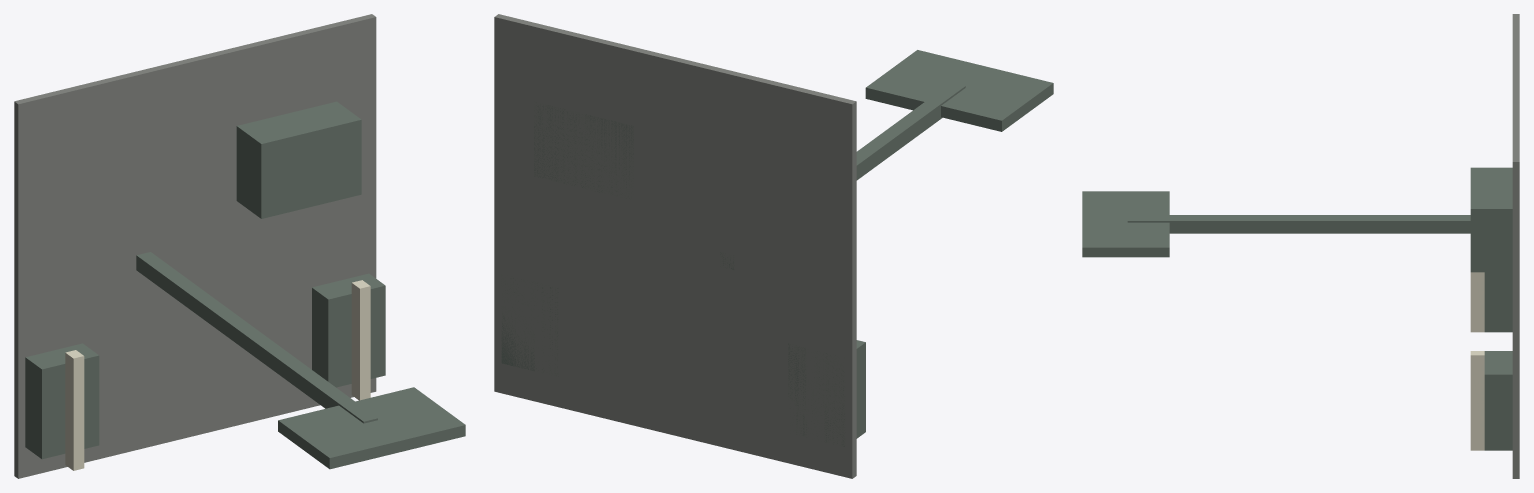
The model's file is shape_038_SVN_SAM_Radar.glb.
3 views of the same model, side by side, from view 1: azimuth 30°, elevation 25°; view 2: azimuth 150°, elevation 25°; view 3: azimuth 270°, elevation 25° (orthographic). The views are drawn at different scales.
Parts seen in each view (by area): view 1: Radar pad, Equipment shelter, Antenna, Mast, Launcher, Launcher.001, Missile rail, Missile rail.001; view 2: Radar pad, Antenna, Mast, Equipment shelter, Launcher, Launcher.001; view 3: Mast, Antenna, Equipment shelter, Radar pad, Launcher.001, Launcher, Missile rail.001, Missile rail.
Boxes of the visible parts, left/top/right/bottom form: Radar pad: left=14, top=14, right=376, bottom=478; Equipment shelter: left=236, top=101, right=361, bottom=218; Antenna: left=278, top=387, right=465, bottom=469; Mast: left=136, top=252, right=377, bottom=423; Launcher: left=25, top=343, right=99, bottom=459; Launcher.001: left=312, top=273, right=385, bottom=387; Missile rail: left=65, top=350, right=84, bottom=470; Missile rail.001: left=351, top=280, right=370, bottom=400; Radar pad: left=494, top=14, right=856, bottom=478; Antenna: left=865, top=50, right=1053, bottom=131; Mast: left=720, top=82, right=965, bottom=269; Equipment shelter: left=534, top=102, right=633, bottom=198; Launcher: left=788, top=340, right=865, bottom=446; Launcher.001: left=501, top=278, right=558, bottom=376; Mast: left=1127, top=215, right=1470, bottom=233; Antenna: left=1082, top=191, right=1169, bottom=257; Equipment shelter: left=1470, top=167, right=1512, bottom=272; Radar pad: left=1512, top=14, right=1519, bottom=478; Launcher.001: left=1484, top=351, right=1512, bottom=450; Launcher: left=1484, top=272, right=1512, bottom=332; Missile rail.001: left=1470, top=351, right=1484, bottom=450; Missile rail: left=1470, top=272, right=1484, bottom=332.
Bounding box in the file's own units: 64 × 64 × 80.
